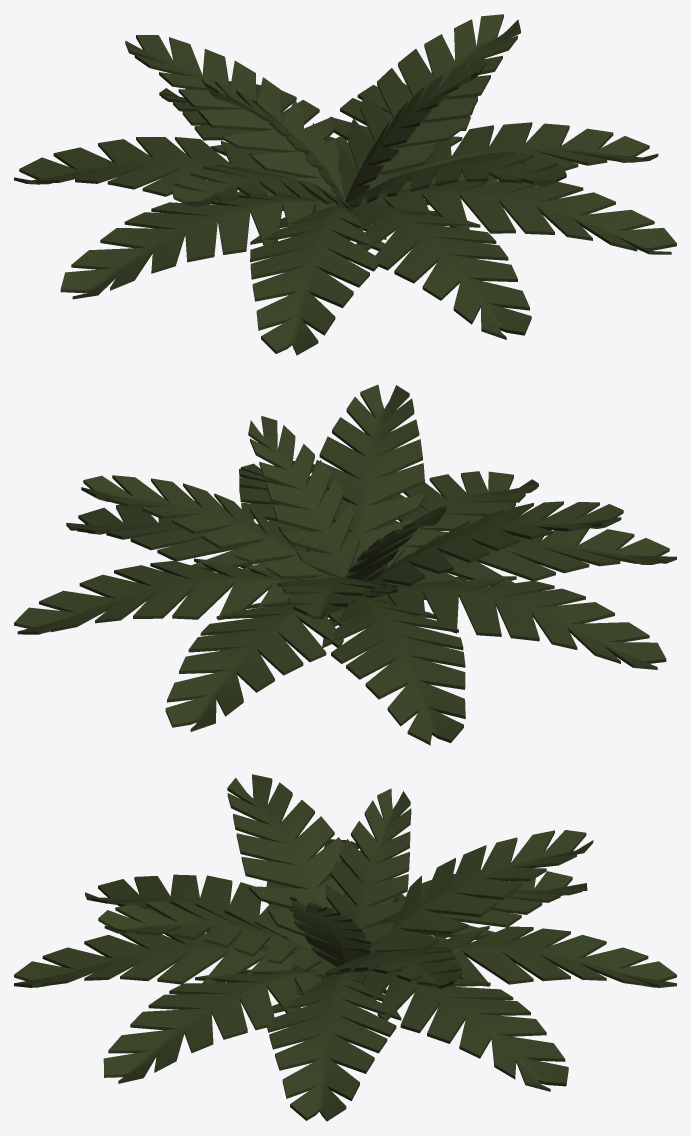
File: fern3D.fbx
3 renders of one model, top to bottom at view 1: azimuth 30°, elevation 25°; view 2: azimuth 150°, elevation 25°; view 3: azimuth 270°, elevation 25°, orthographic. The views are drawn at different scales.
Visible parts, largest first — view 1: fern3D; view 2: fern3D; view 3: fern3D.
Boxes of the visible parts, x1=… form: fern3D: x1=14, y1=14, x2=676, y2=355; fern3D: x1=14, y1=384, x2=676, y2=745; fern3D: x1=14, y1=774, x2=676, y2=1121.
Bounding box in the file's own units: 10.8 × 2.56 × 10.82.
